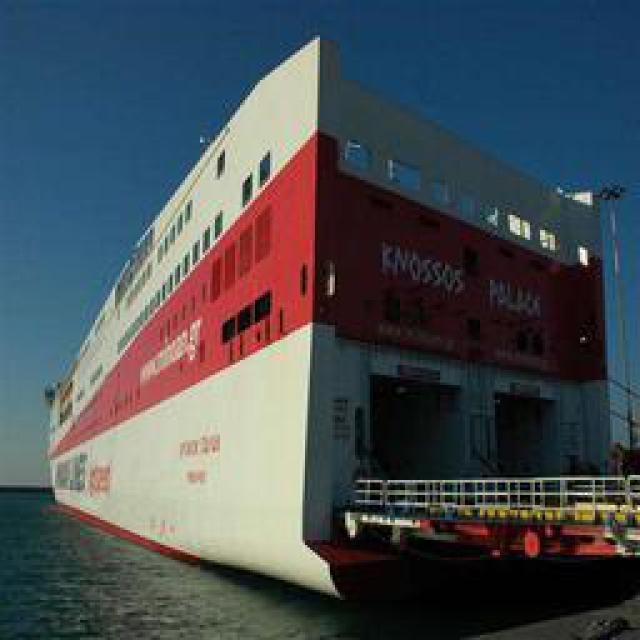Ship: (22, 20, 640, 614)
